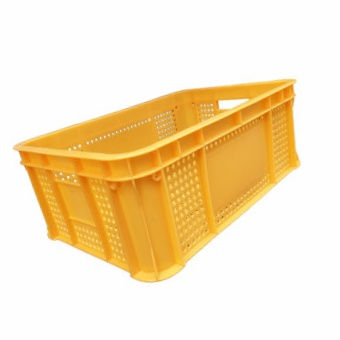plastic: (6, 78, 304, 283)
